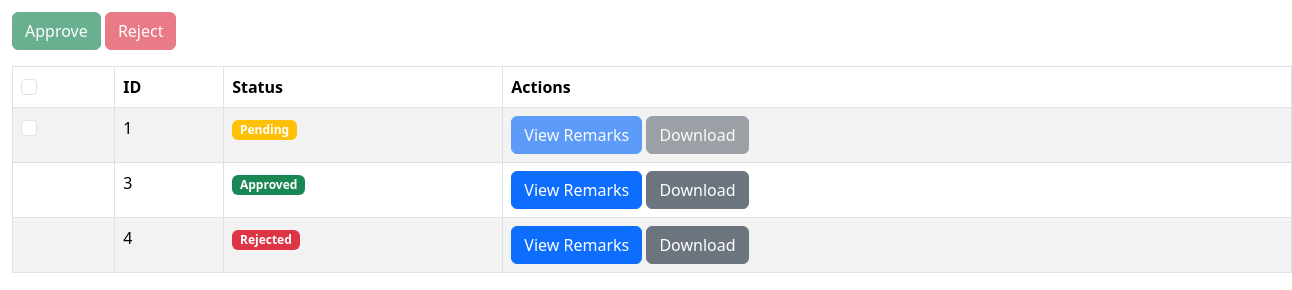
Test: TableComponent › enables approve and reject buttons when a pending row is selected
Click the checkbox in the row of "Pending" at (29, 128), box [21,120,37,136]
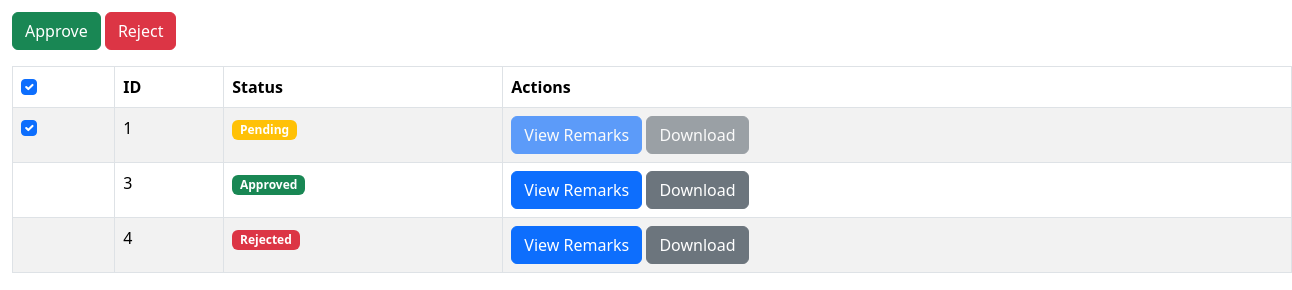
Now the button "Approve" is enabled, box [12,12,101,50]
Now the button "Reject" is enabled, box [105,12,176,50]
